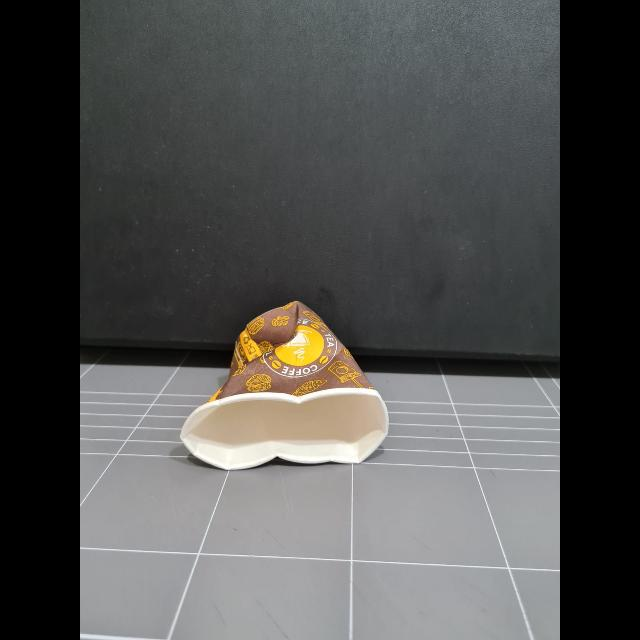trash: (190, 300, 390, 468)
